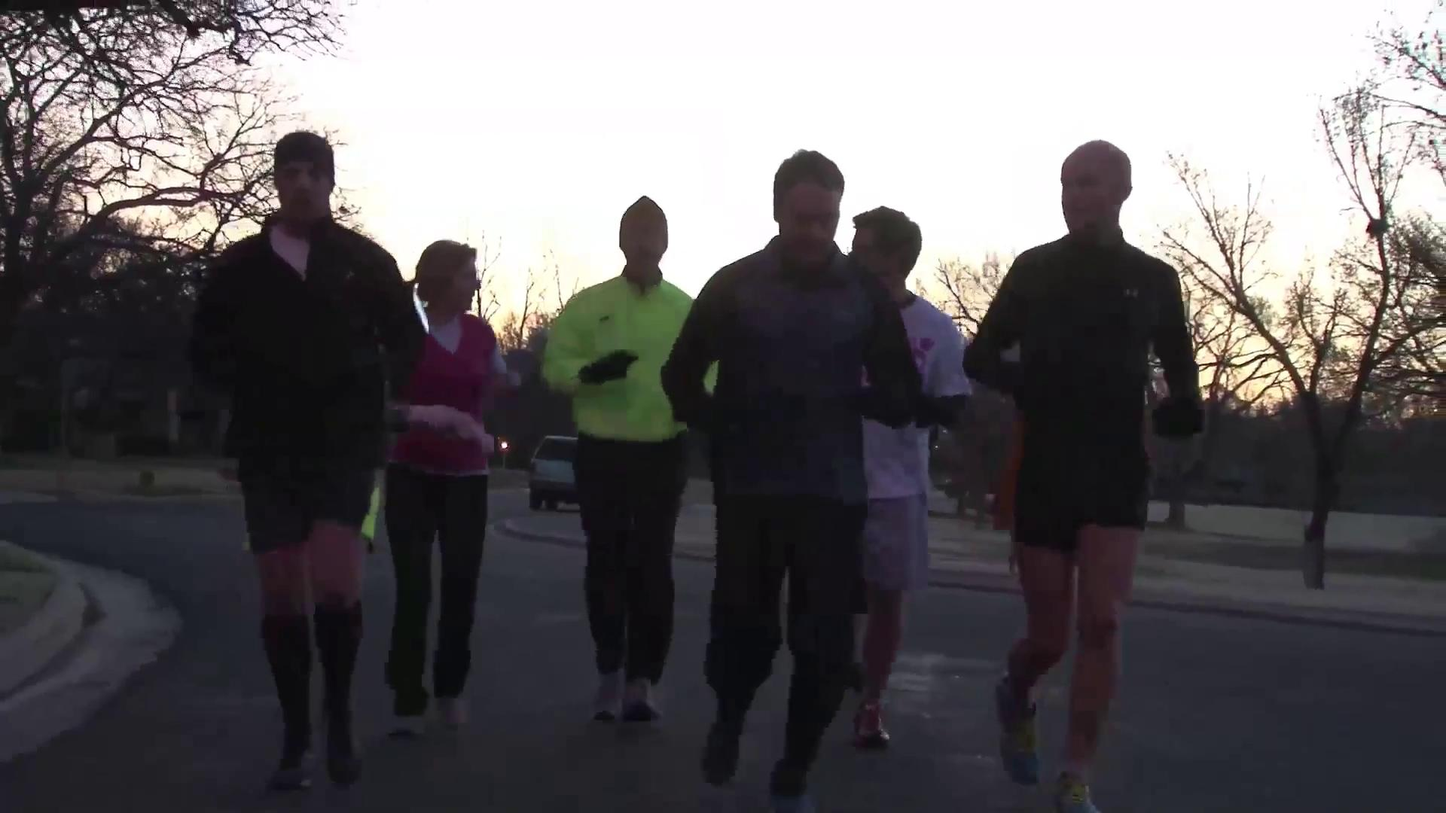victim: (658, 142, 926, 801), (176, 126, 429, 798), (959, 127, 1211, 800), (538, 192, 735, 735), (827, 201, 982, 753), (364, 223, 525, 748)
